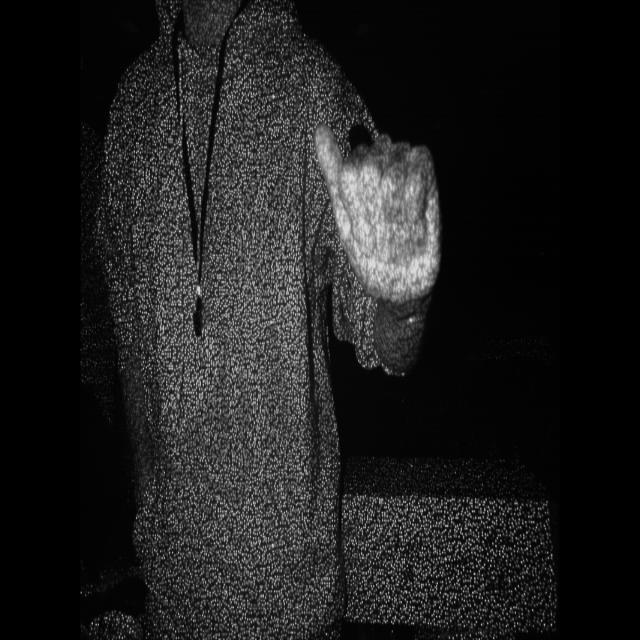A: (310, 118, 490, 356)
